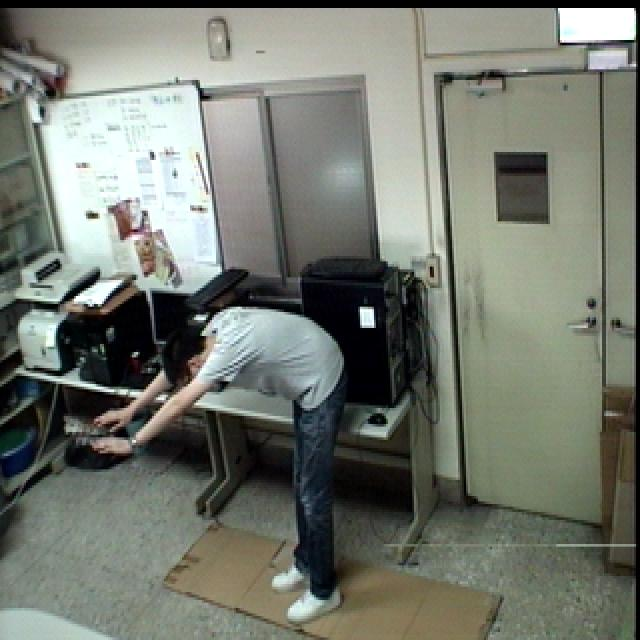bend: (86, 302, 360, 625)
